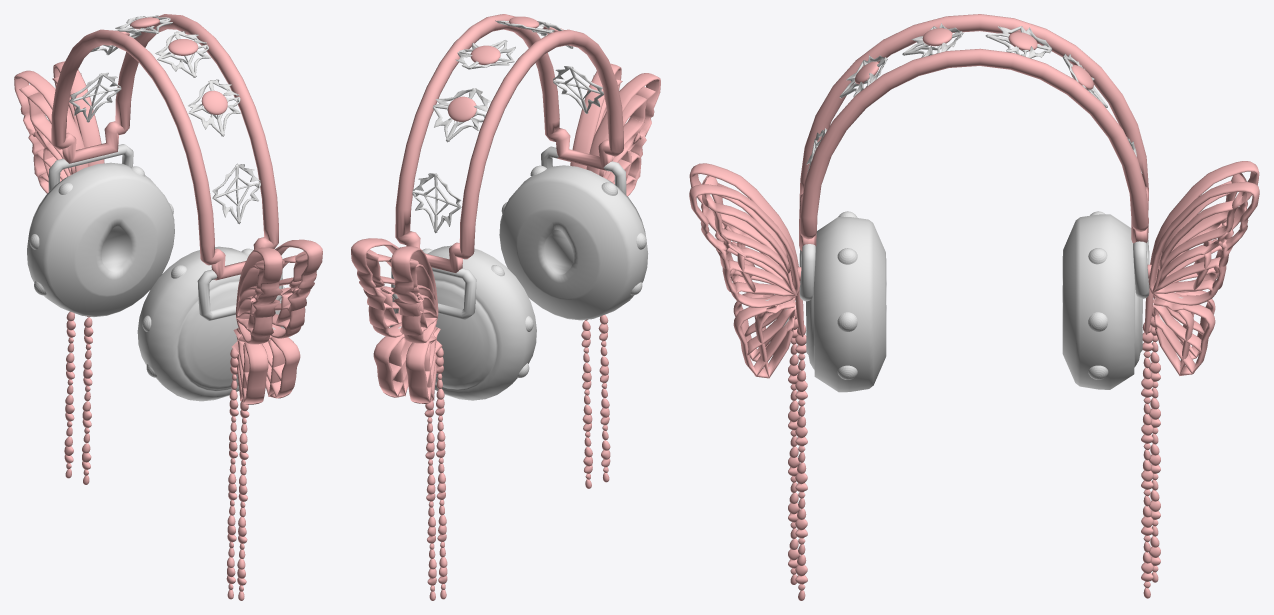
The model's file is butterfly_headphones_y2k-y3k.glb.
3 renders of one model, left to right at view 1: azimuth 30°, elevation 25°; view 2: azimuth 150°, elevation 25°; view 3: azimuth 270°, elevation 25°, orthographic. The views are drawn at different scales.
Visible parts, largest first — view 1: Headband Glass outside; view 2: Headband Glass outside; view 3: Headband Glass outside.
Boxes of the visible parts, x1,y1,x2,y2 form: Headband Glass outside: (14,14,322,600); Headband Glass outside: (351,14,660,600); Headband Glass outside: (689,14,1259,600).
Size of the model in its own units: 0.5526 by 1.91 by 1.73.
